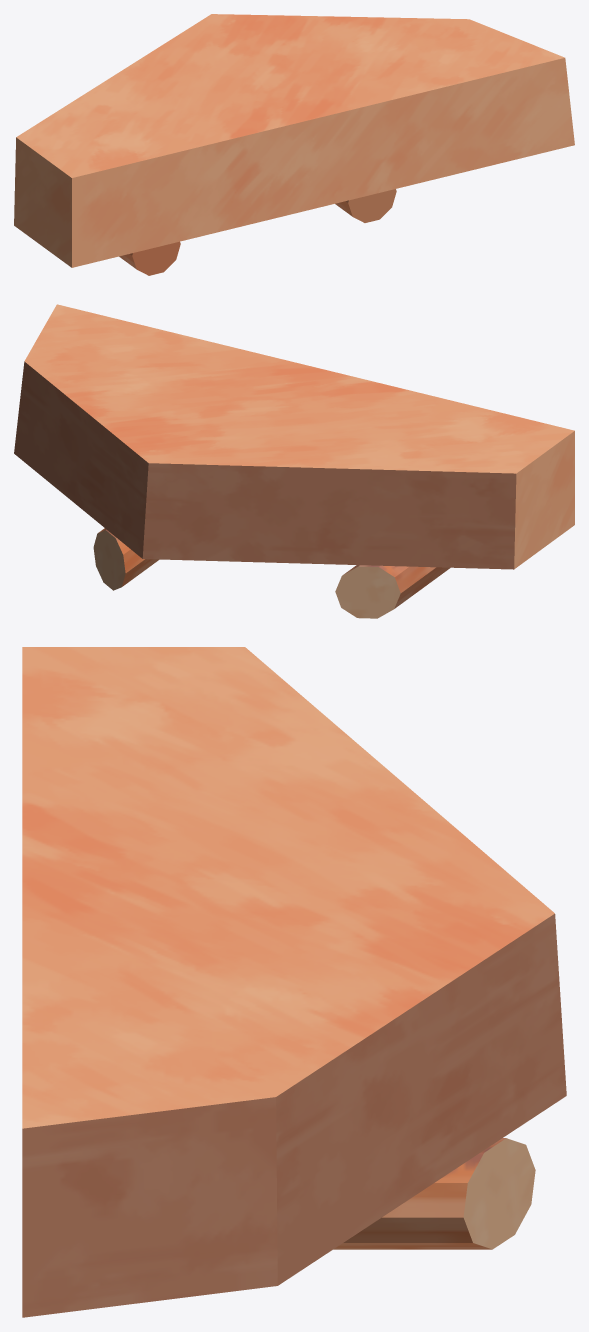
Rendered from roof_s00.fbx.
The picture shows the model from 3 angles, top to bottom: view 1: azimuth 30°, elevation 25°; view 2: azimuth 150°, elevation 25°; view 3: azimuth 270°, elevation 25°; orthographic projection. The views are drawn at different scales.
Visible parts, largest first — view 1: roof_s00; view 2: roof_s00; view 3: roof_s00.
Boxes of the visible parts, x1,y1,x2,y2 form: roof_s00: (14, 14, 574, 275); roof_s00: (14, 304, 574, 618); roof_s00: (22, 647, 566, 1317).
Bounding box in the file's own units: 6.21 × 1.65 × 2.91.
